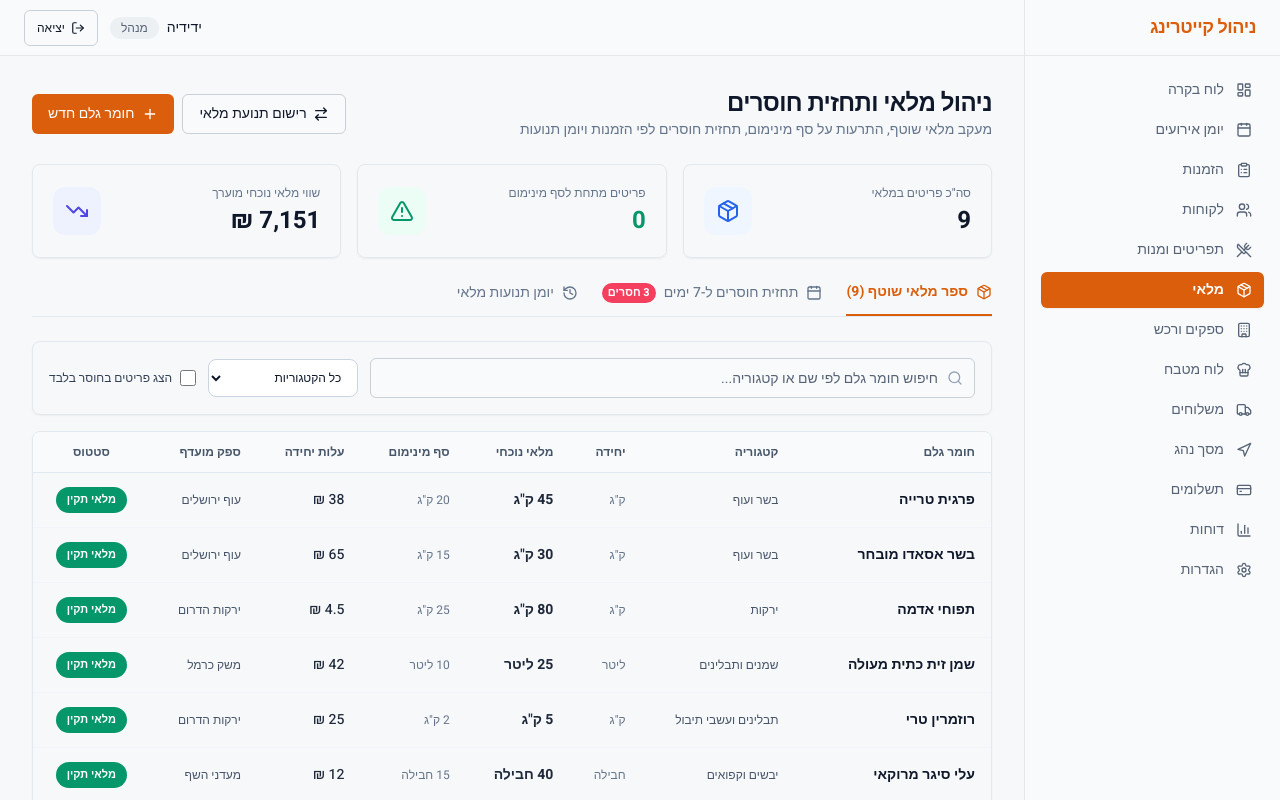
Test: S10 Inventory & Forecasting › switches to stock movements history tab
The image size is (1280, 800).
Step 1. Click the button "יומן תנועות מלאי" → (517, 299), box [457,282,578,316]
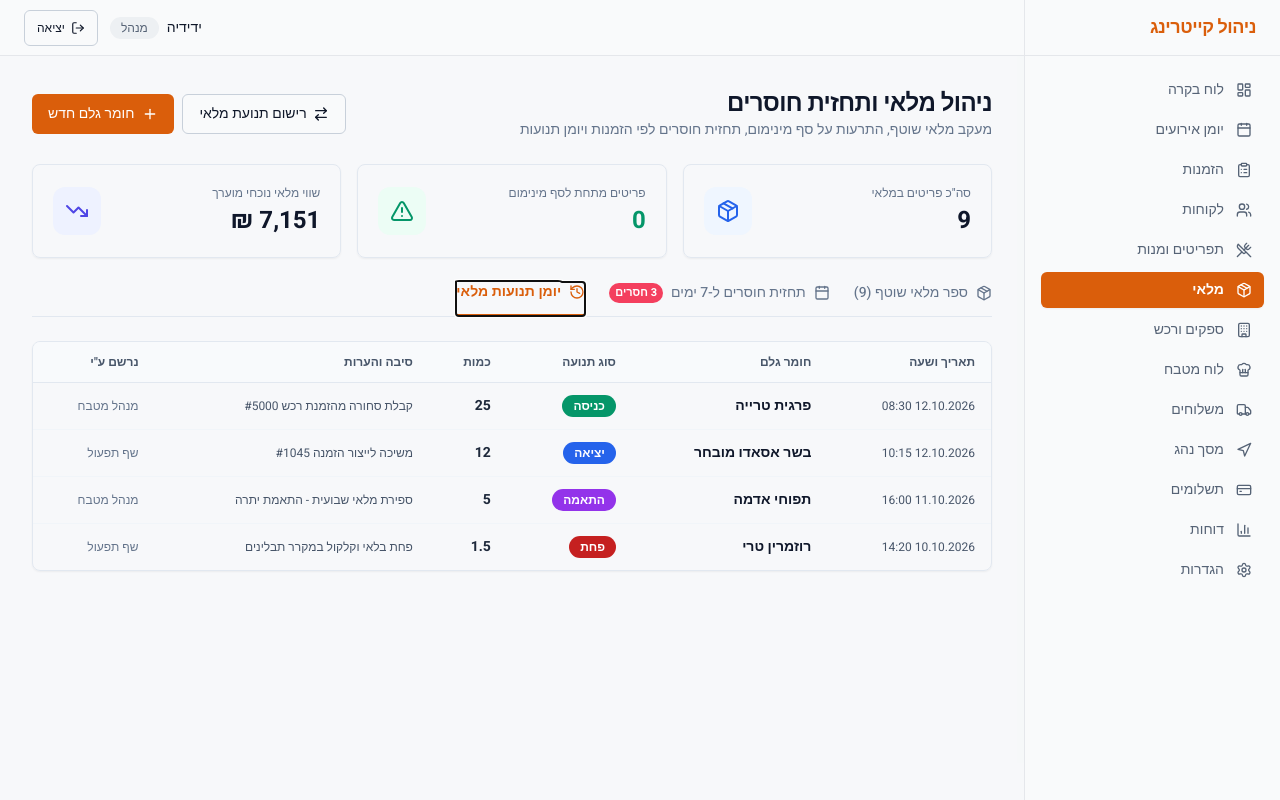
Now the column heading "סיבה והערות" is shown, box [155,342,429,382]
Now the text "קבלת סחורה מהזמנת רכש #5000" is shown, box [155,382,429,430]
